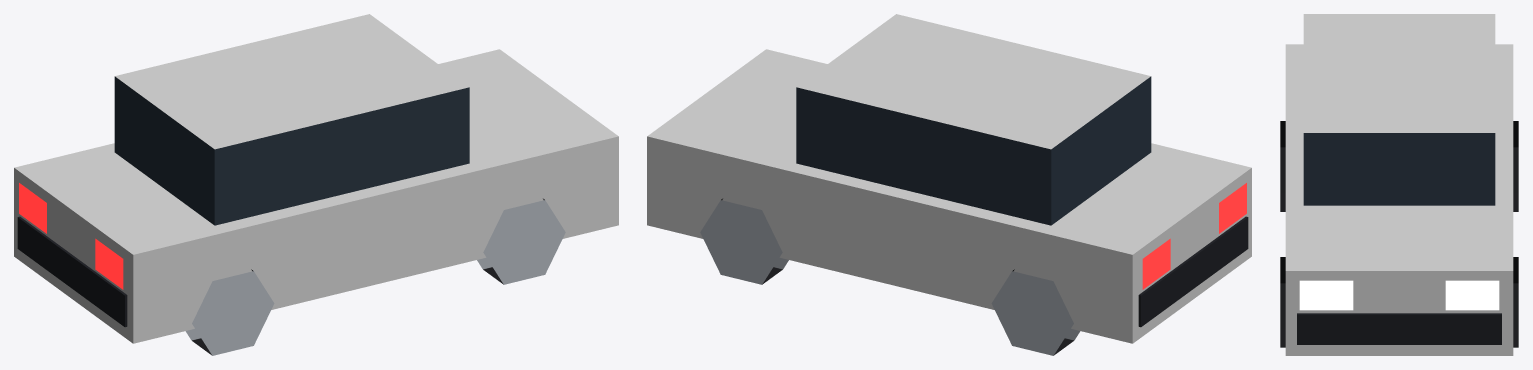
The model's file is car_sedan.glb.
The picture shows the model from 3 angles, left to right: view 1: azimuth 30°, elevation 25°; view 2: azimuth 150°, elevation 25°; view 3: azimuth 270°, elevation 25°; orthographic projection. The views are drawn at different scales.
Visible parts, largest first — view 1: car_sedan; view 2: car_sedan; view 3: car_sedan.
Part boxes in pixels (box(x1,y1,x2,y2)): car_sedan: box(14, 14, 618, 355); car_sedan: box(647, 14, 1251, 355); car_sedan: box(1280, 14, 1518, 355).
Size of the model in its own units: 0.404 by 0.1526 by 0.178.
